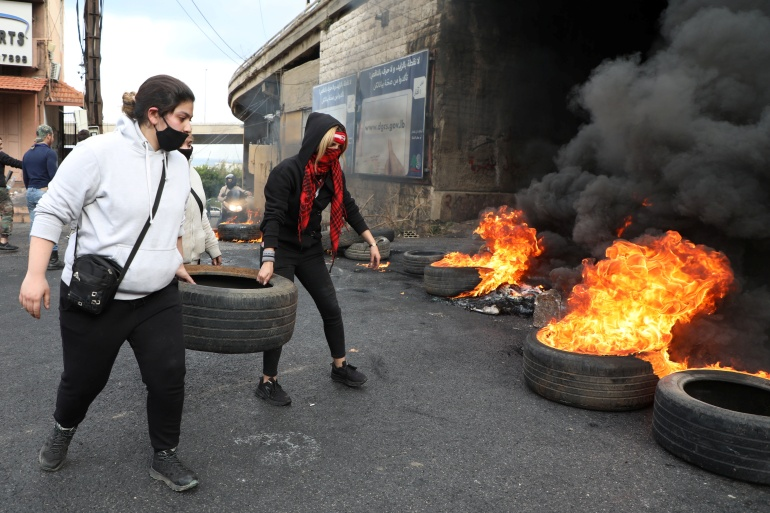with_incorrect_mask: (162, 108, 191, 146)
with_mask: (328, 141, 340, 159)
